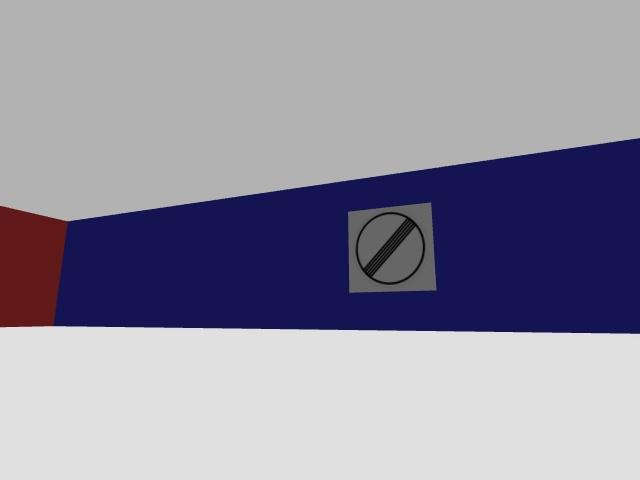fastsign: (348, 203, 436, 292)
